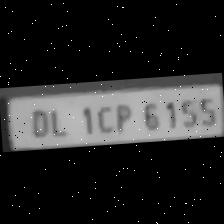1: (73, 102, 96, 136), (159, 96, 179, 130)
5: (196, 92, 218, 126), (175, 96, 197, 128)
6: (134, 98, 163, 132)
C: (92, 101, 114, 134)
D: (23, 105, 52, 139)
L: (47, 103, 70, 137)
P: (110, 100, 135, 134)
